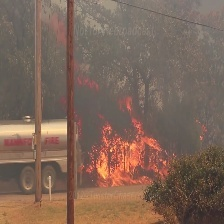fire: (85, 96, 173, 185), (193, 117, 207, 140)
